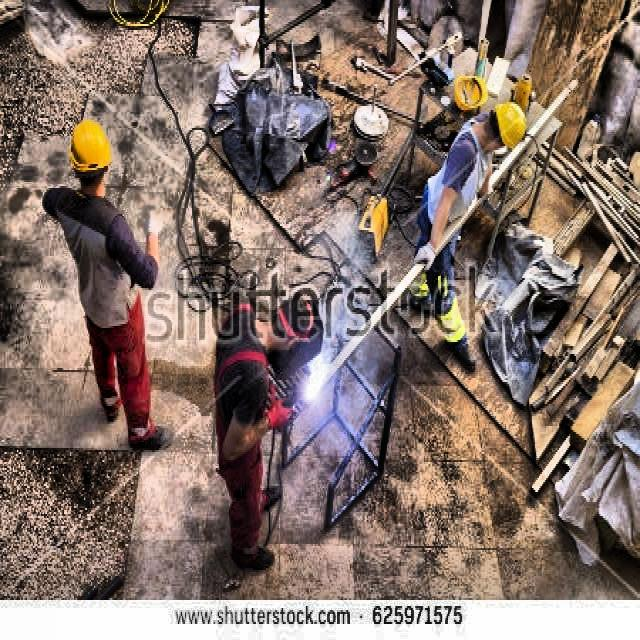person: (34, 118, 172, 456), (222, 278, 313, 590), (421, 98, 525, 358)
